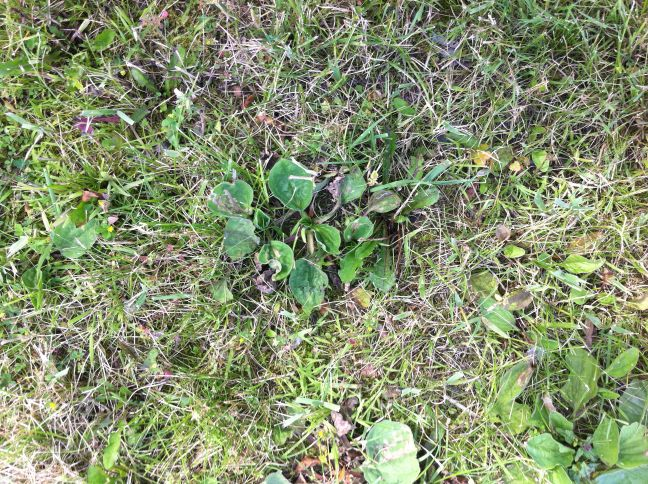weed1: (211, 151, 416, 312), (505, 325, 648, 478)
